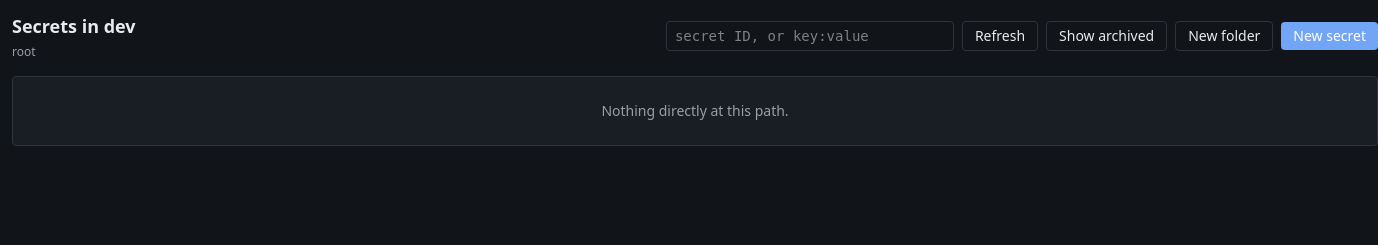
SecretsCatalog search › says plainly that there are no matches
This screenshot has width=1378, height=245.
Type "no-such-secret" into the search field with id "catalog-filter" at (810, 36), box [666,21,954,51]
Wait 300 ms
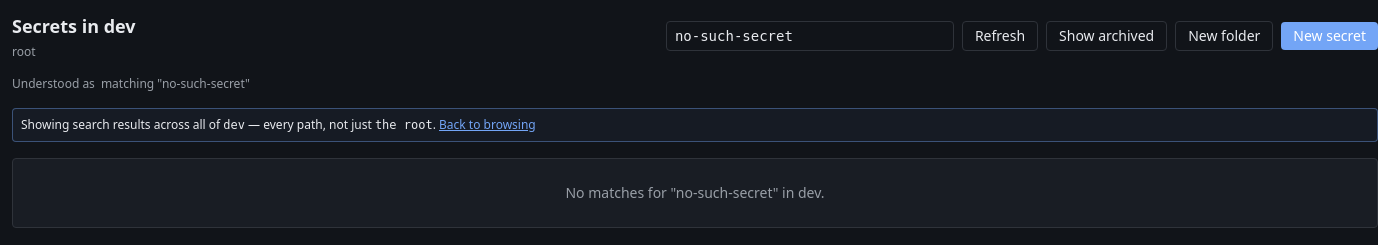
Expected: the text "No matches for \"no-such-secret\"" is shown, [566,183,825,202]
